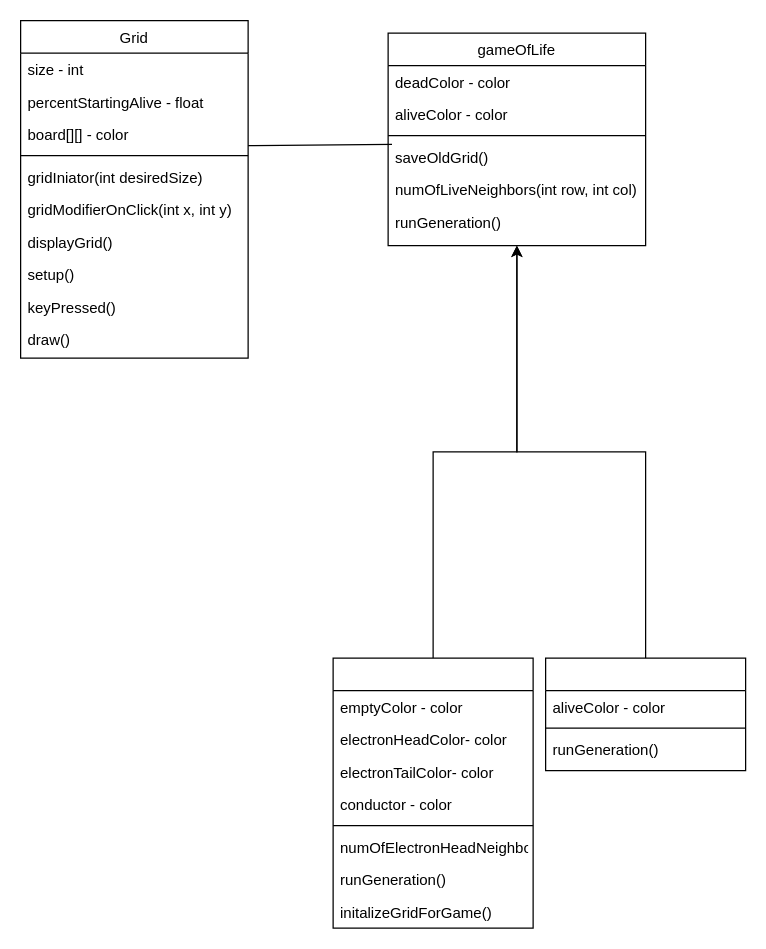
Image size: 766x949. Some labels were removed from this diagram. The box of each missing label's shape, as (x1, y1, x2, y2) in pixels:
rainbowGameOfLife: (544, 657, 746, 771)
WireWorld: (332, 657, 533, 928)
